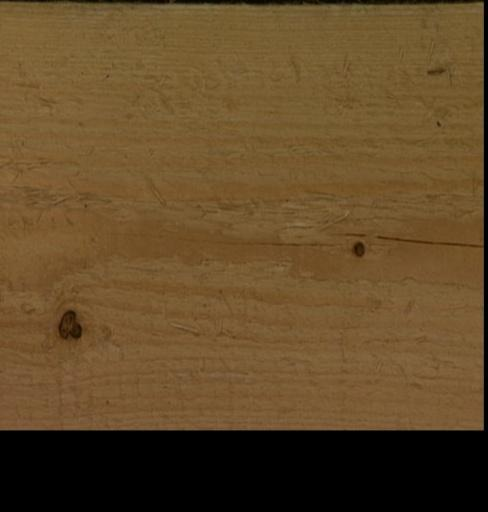dry_knot: (55, 307, 82, 339), (351, 240, 363, 254)
split: (110, 229, 336, 246), (372, 233, 482, 247)
